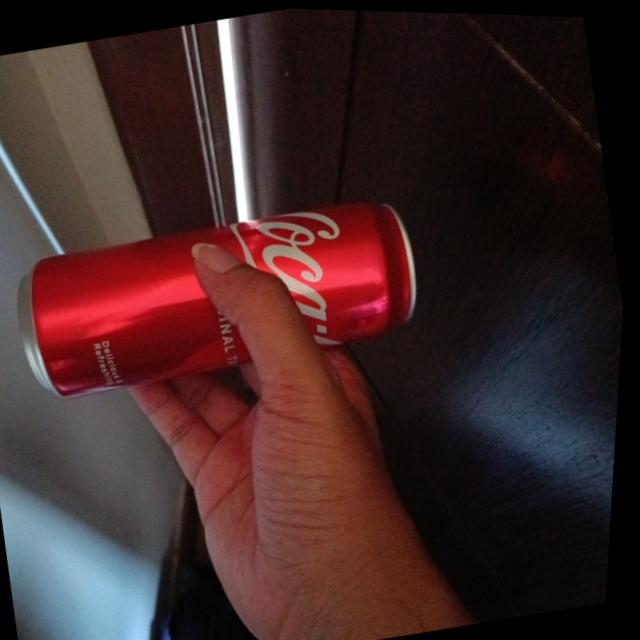coke: (7, 180, 435, 412)
